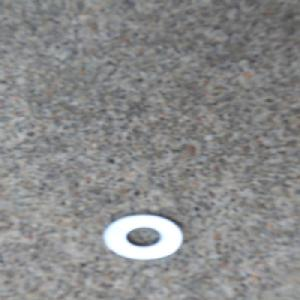Washer: (100, 211, 186, 262)
